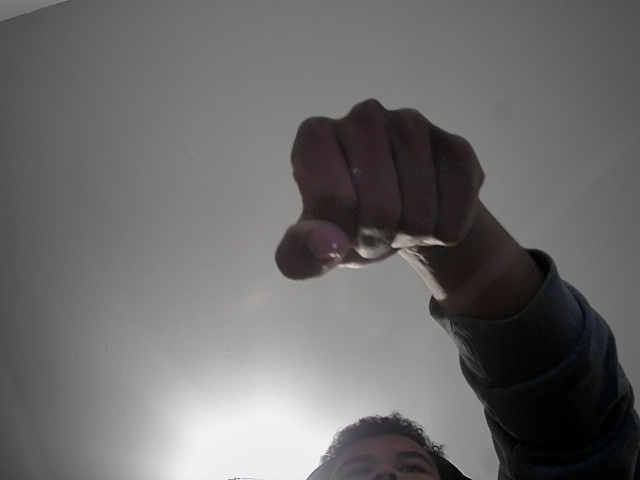Yes: (234, 75, 489, 294)
